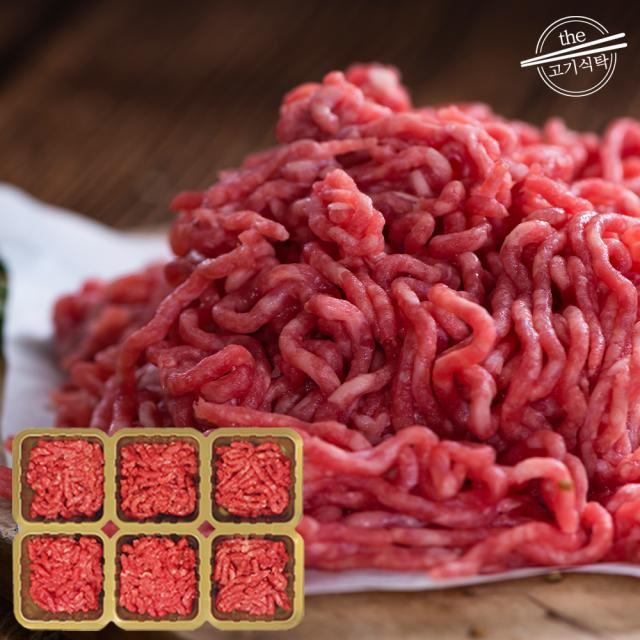beef: (276, 228, 519, 450)
